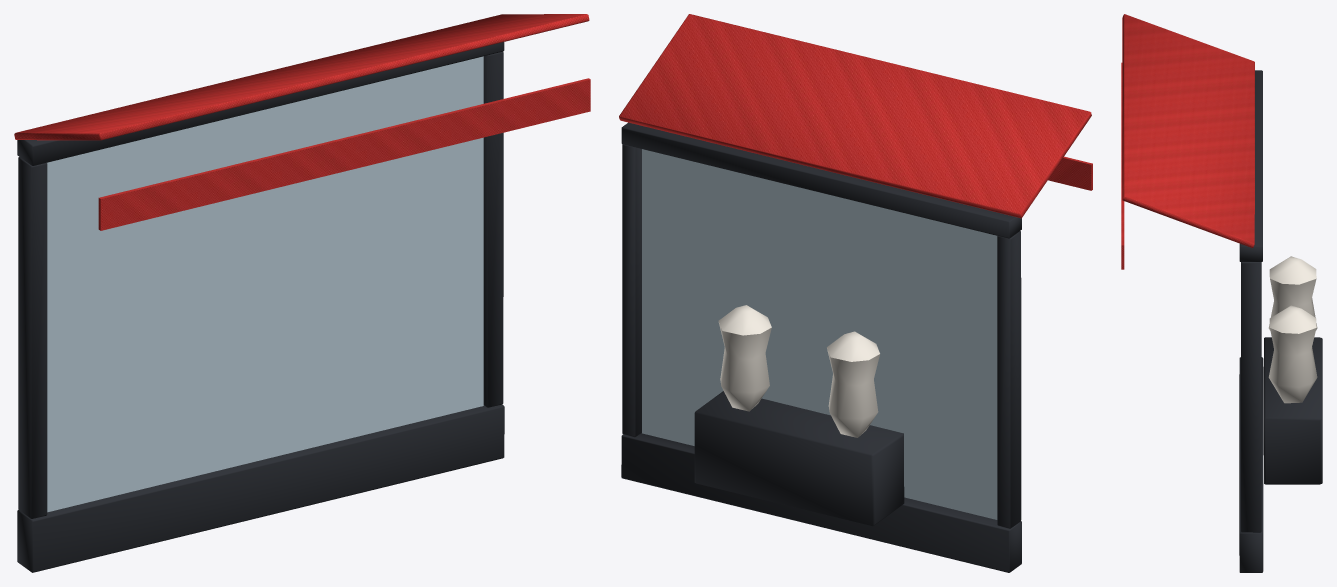
The model's file is fachada-vitrine-26-leve.glb.
3 views of the same model, side by side, from view 1: azimuth 30°, elevation 25°; view 2: azimuth 150°, elevation 25°; view 3: azimuth 270°, elevation 25° (orthographic). The views are drawn at different scales.
Parts seen in each view (by area): view 1: vidro, soleira, sanefa, toldo, coluna, coluna.001, verga; view 2: vidro, toldo, expositor, soleira, verga, coluna, coluna.001, busto, busto.001, sanefa; view 3: toldo, expositor, coluna.001, busto.001, busto, soleira, verga, sanefa.
Part boxes in pixels (bbox=[...]): vidro: bbox=[47, 56, 483, 512]; soleira: bbox=[17, 404, 504, 572]; sanefa: bbox=[98, 78, 590, 230]; toldo: bbox=[14, 14, 589, 140]; coluna: bbox=[18, 157, 47, 518]; coluna.001: bbox=[483, 51, 503, 407]; verga: bbox=[17, 42, 504, 165]; vidro: bbox=[642, 149, 997, 519]; toldo: bbox=[619, 14, 1091, 218]; expositor: bbox=[694, 391, 904, 526]; soleira: bbox=[621, 433, 1021, 572]; verga: bbox=[621, 122, 1021, 238]; coluna: bbox=[997, 231, 1021, 528]; coluna.001: bbox=[622, 144, 641, 437]; busto: bbox=[827, 331, 879, 437]; busto.001: bbox=[718, 305, 771, 411]; sanefa: bbox=[1048, 156, 1092, 190]; toldo: bbox=[1122, 14, 1254, 247]; expositor: bbox=[1263, 337, 1322, 484]; coluna.001: bbox=[1241, 262, 1261, 532]; busto.001: bbox=[1268, 305, 1317, 403]; busto: bbox=[1268, 256, 1317, 330]; soleira: bbox=[1239, 357, 1263, 572]; verga: bbox=[1239, 70, 1262, 261]; sanefa: bbox=[1121, 62, 1124, 269].
Size of the model in its own units: 2.9 by 2.81 by 1.35.
Materials: 4 (1 with a texture image).
